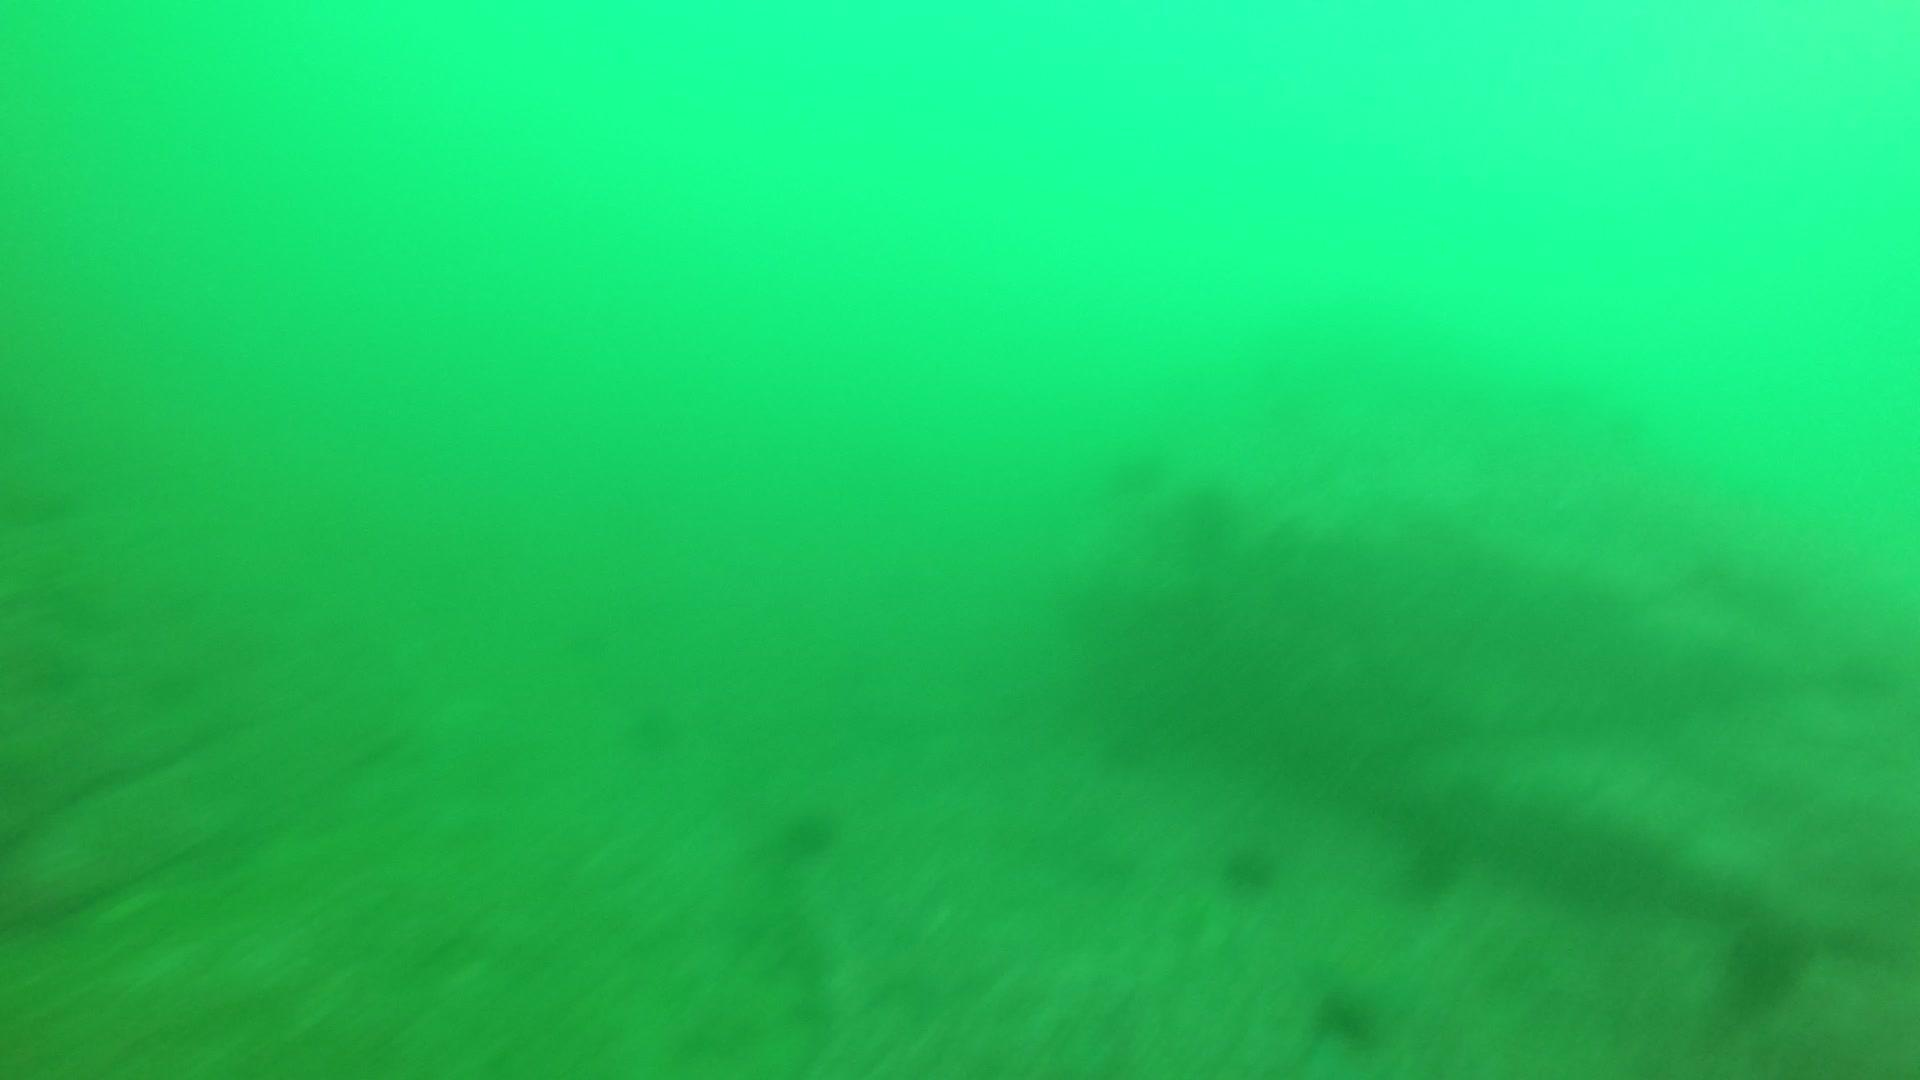echinus: (1714, 913, 1815, 1010), (1164, 473, 1246, 556), (1389, 825, 1472, 906), (1307, 978, 1390, 1055), (770, 798, 844, 862), (618, 694, 690, 760), (1213, 833, 1286, 898)
